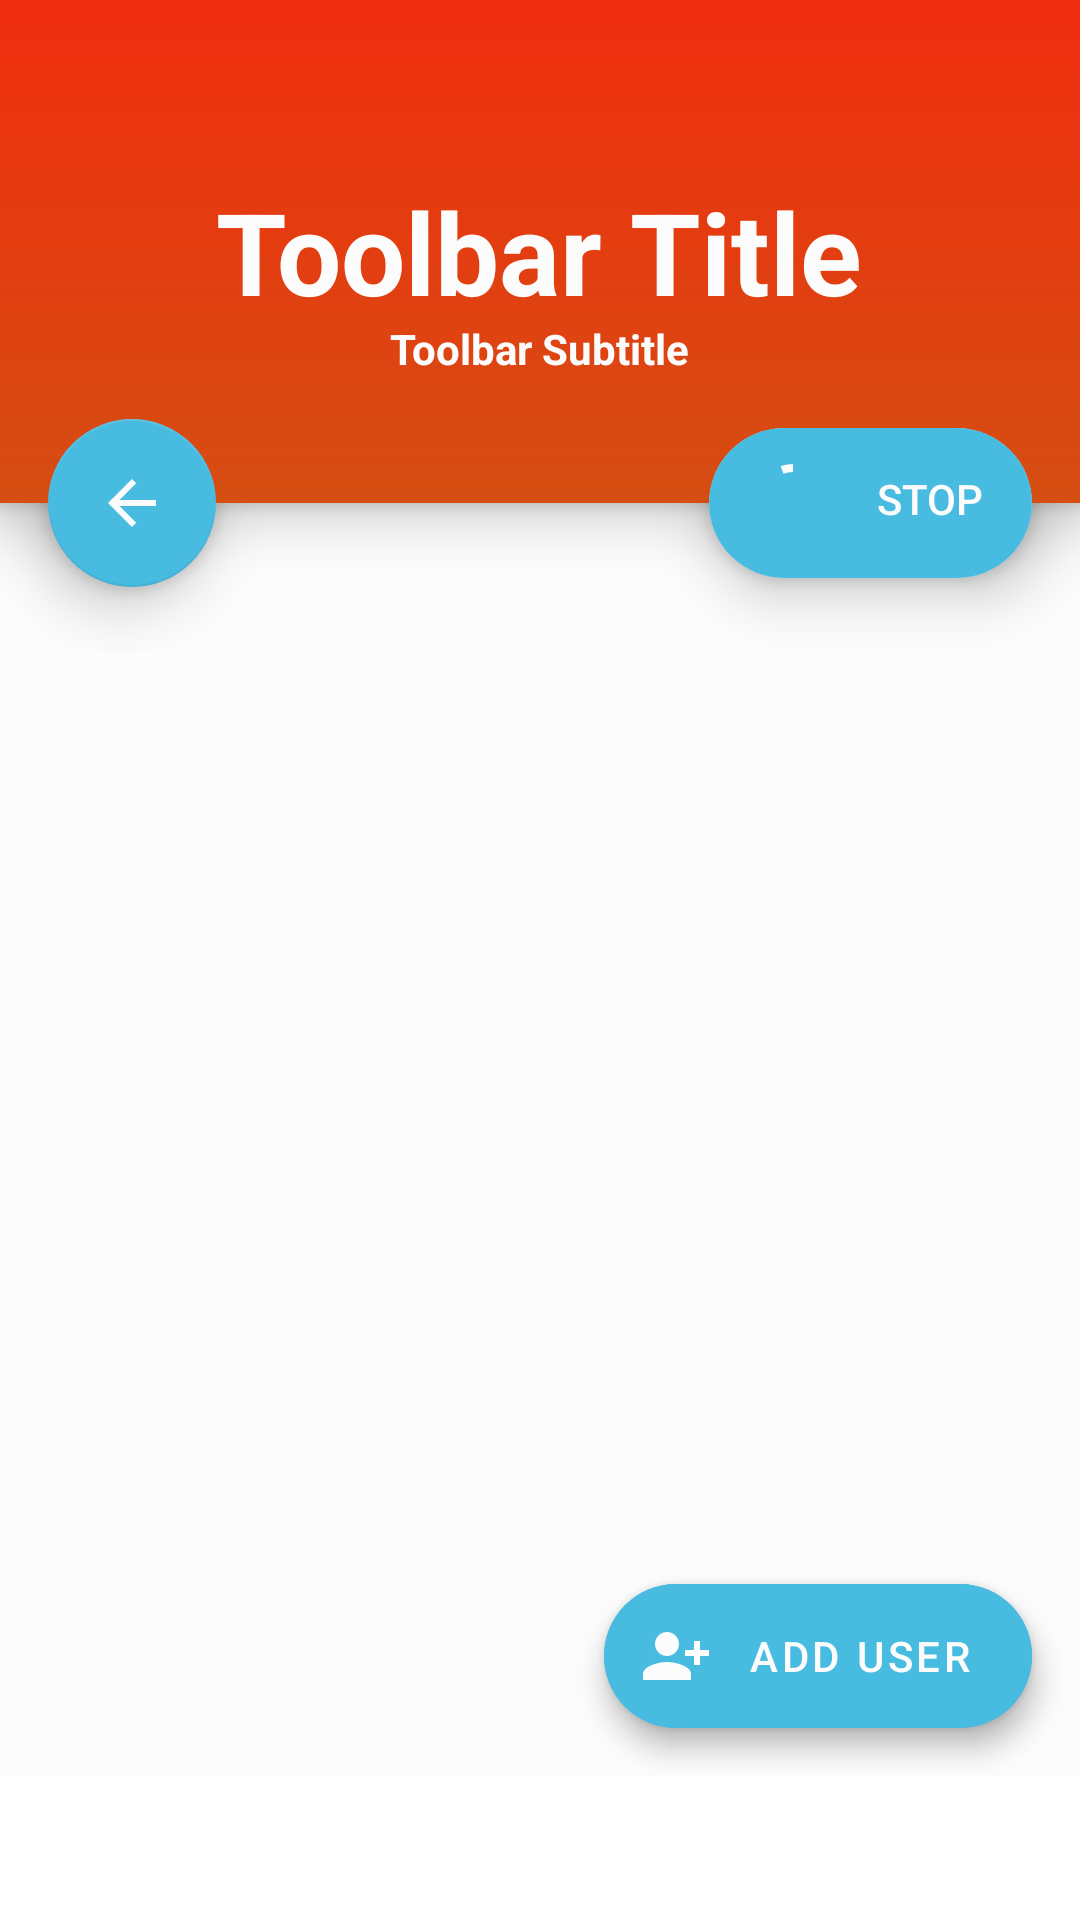

Icons on this 1080px x 1920px Android screen, each with the point to tap as (x,y):
arrow back: (132,503)
